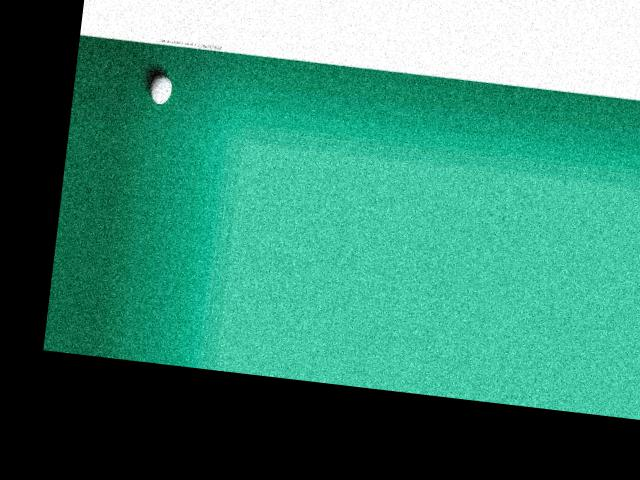egg: (150, 73, 174, 104)
